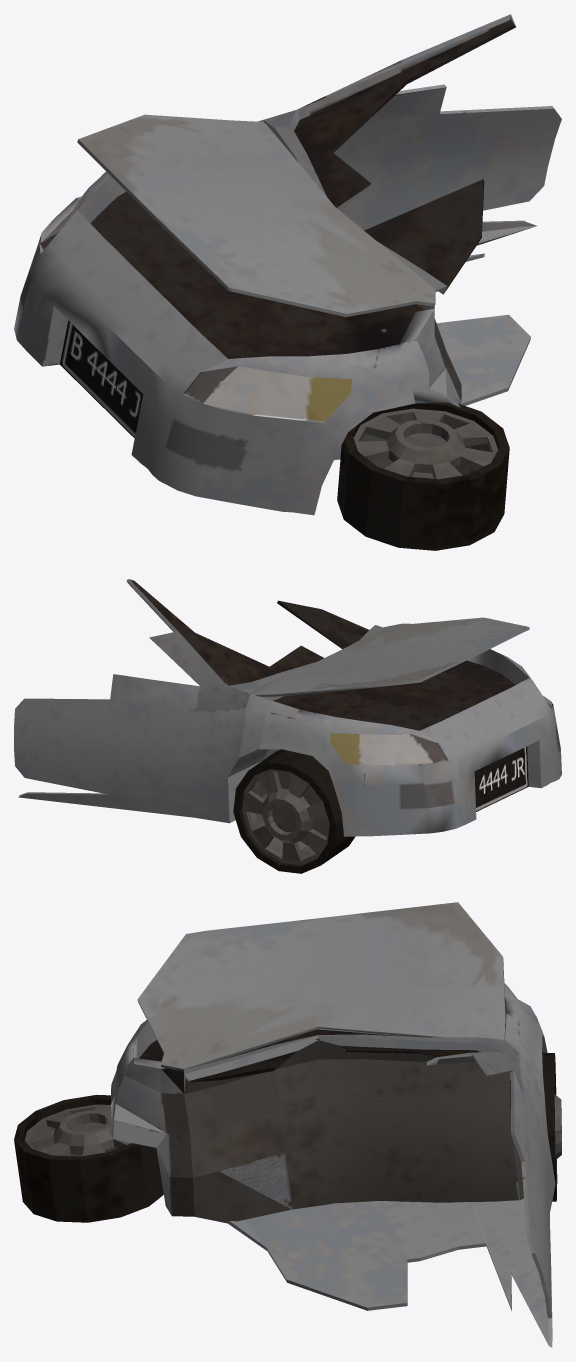
The model's file is P_CAR WRECKED HATCHBACK 1.fbx.
3 renders of one model, top to bottom at view 1: azimuth 30°, elevation 25°; view 2: azimuth 150°, elevation 25°; view 3: azimuth 270°, elevation 25°, orthographic. The views are drawn at different scales.
Visible parts, largest first — view 1: Car_Wrecked_Hatchback_1; view 2: Car_Wrecked_Hatchback_1; view 3: Car_Wrecked_Hatchback_1.
Part boxes in pixels (bbox=[...]): Car_Wrecked_Hatchback_1: bbox=[14, 14, 561, 550]; Car_Wrecked_Hatchback_1: bbox=[14, 579, 561, 873]; Car_Wrecked_Hatchback_1: bbox=[14, 902, 561, 1347].
Size of the model in its own units: 328 by 158 by 299.
